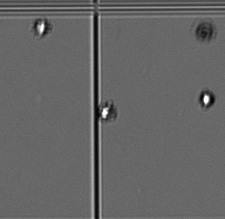Dead Cell: (194, 20, 216, 44)
Living Cell: (96, 99, 116, 123), (197, 85, 216, 110), (32, 17, 48, 37)
